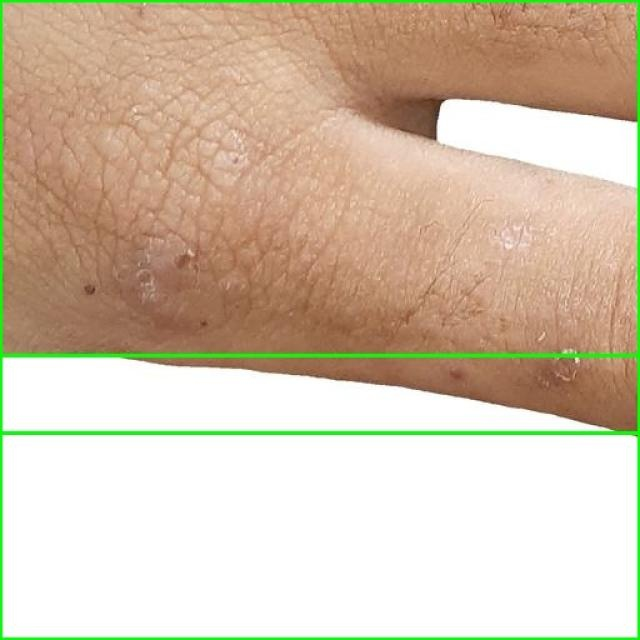Scabies: (0, 0, 639, 432), (0, 355, 639, 639)
